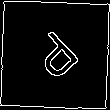P_SE: (24, 23, 86, 87)
